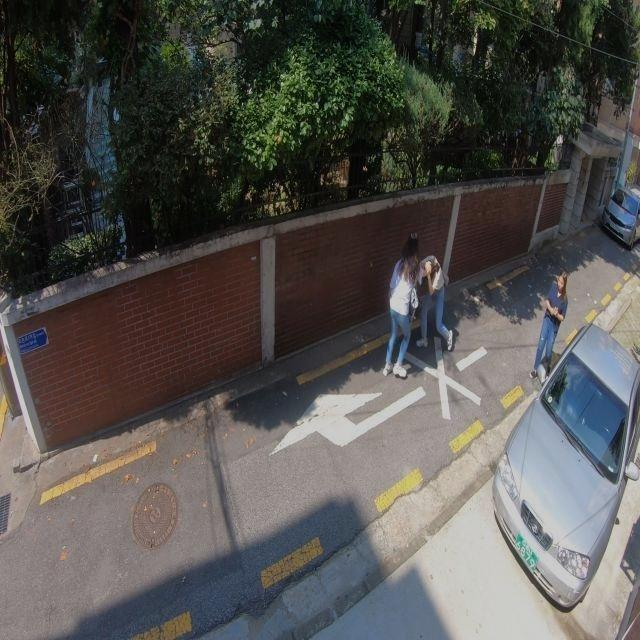fight: (380, 239, 453, 382)
